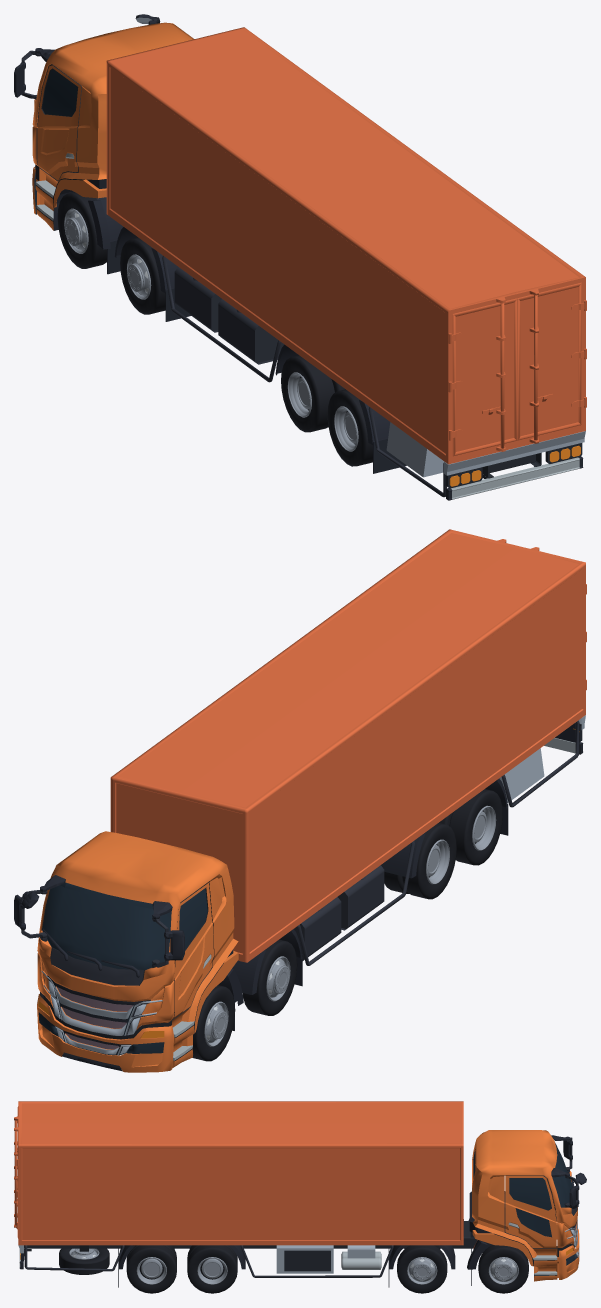
Rendered from truck_imported.glb.
3 views of the same model, one above another, from view 1: azimuth 30°, elevation 25°; view 2: azimuth 150°, elevation 25°; view 3: azimuth 270°, elevation 25° (orthographic). The views are drawn at different scales.
Parts seen in each view (by area): view 1: Truck_body_Truck_body.L, Truck_head_Truck_head.L, wheels_Circle, Truck_door.L, Truck_Fueltank02, Truck_Fueltank01, Truck_Toolbox, Truck_backmirror.R; view 2: Truck_body_Truck_body.L, Truck_head_Truck_head.L, wheels_Circle, Truck_door.L, Truck_Fueltank02, Truck_Fueltank01, Truck_Toolbox, Truck_backmirror.R, Truck_backmirror.L; view 3: Truck_body_Truck_body.L, Truck_head_Truck_head.L, wheels_Circle, Truck_door.R, Truck_Toolbox1, wheel_Circle.001, Truck_Brakesys, Truck_backmirror.L, Truck_backmirror.R.
Boxes of the visible parts, left/top/right/bottom form: Truck_body_Truck_body.L: left=106, top=27, right=586, bottom=500; Truck_head_Truck_head.L: left=32, top=22, right=194, bottom=274; wheels_Circle: left=57, top=192, right=372, bottom=466; Truck_door.L: left=37, top=65, right=81, bottom=180; Truck_Fueltank02: left=218, top=299, right=284, bottom=364; Truck_Fueltank01: left=174, top=267, right=221, bottom=332; Truck_Toolbox: left=386, top=422, right=443, bottom=477; Truck_backmirror.R: left=14, top=48, right=54, bottom=100; Truck_body_Truck_body.L: left=110, top=529, right=586, bottom=994; Truck_head_Truck_head.L: left=37, top=831, right=243, bottom=1072; wheels_Circle: left=192, top=789, right=502, bottom=1061; Truck_door.L: left=172, top=882, right=213, bottom=1019; Truck_Fueltank02: left=337, top=865, right=384, bottom=930; Truck_Fueltank01: left=294, top=897, right=341, bottom=960; Truck_Toolbox: left=499, top=748, right=544, bottom=802; Truck_backmirror.R: left=152, top=901, right=184, bottom=967; Truck_backmirror.L: left=14, top=875, right=65, bottom=941; Truck_body_Truck_body.L: left=14, top=1101, right=477, bottom=1287; Truck_head_Truck_head.L: left=467, top=1130, right=579, bottom=1285; wheels_Circle: left=126, top=1245, right=528, bottom=1293; Truck_door.R: left=505, top=1175, right=556, bottom=1247; Truck_Toolbox1: left=276, top=1245, right=333, bottom=1273; wheel_Circle.001: left=59, top=1245, right=109, bottom=1274; Truck_Brakesys: left=341, top=1245, right=381, bottom=1269; Truck_backmirror.L: left=551, top=1168, right=586, bottom=1208; Truck_backmirror.R: left=551, top=1135, right=572, bottom=1172.
Bounding box in the file's own units: 1.58 × 2.06 × 7.2.
